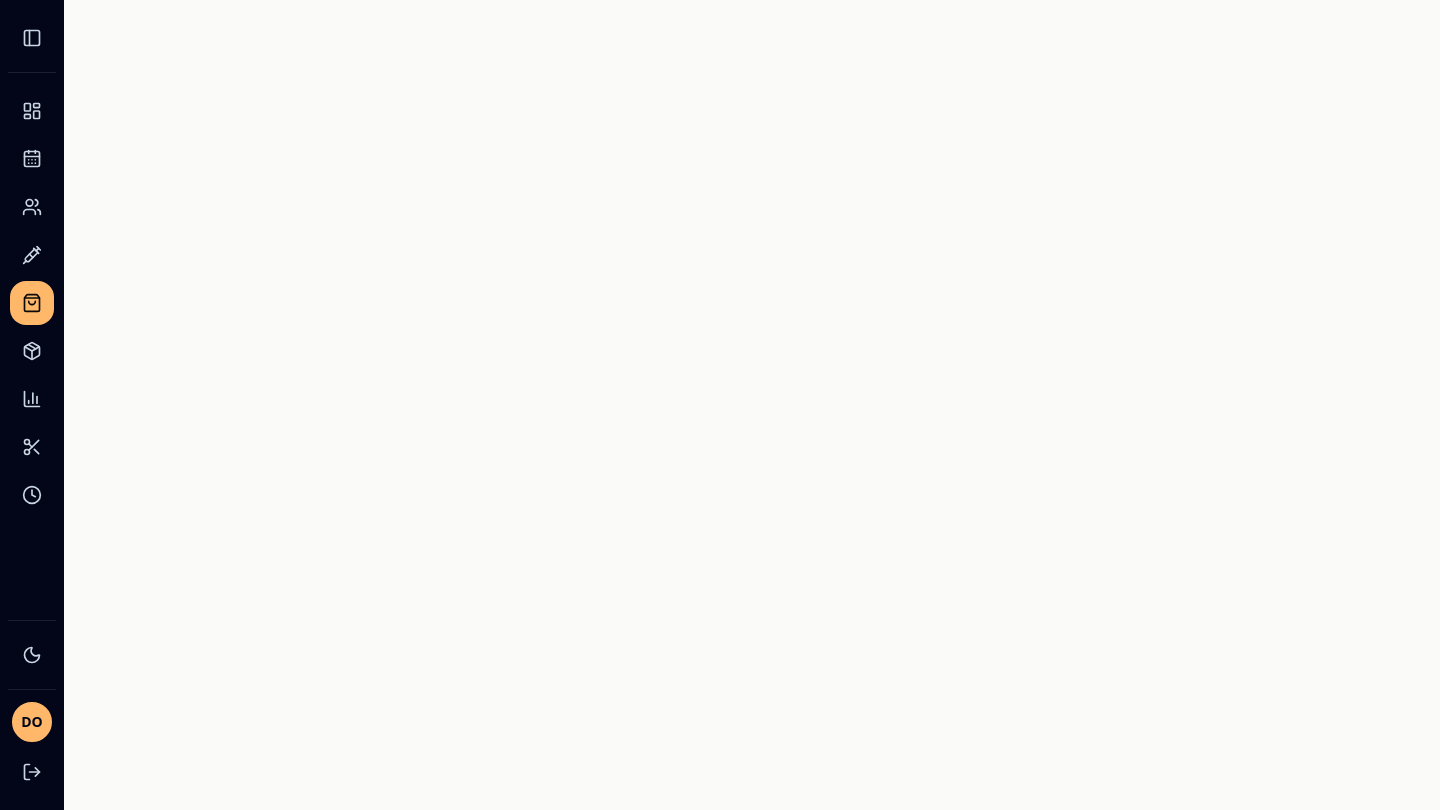
Test: MenuLateral (DES-02, DES-03, PNL-01, DSG-01..DSG-06) › exibe seção Aparelho na barra lateral com botão de alternar tema claro e escuro
This screenshot has width=1440, height=810.
Click the button named "Modo escuro": (32, 655) 10,633 -> 54,677
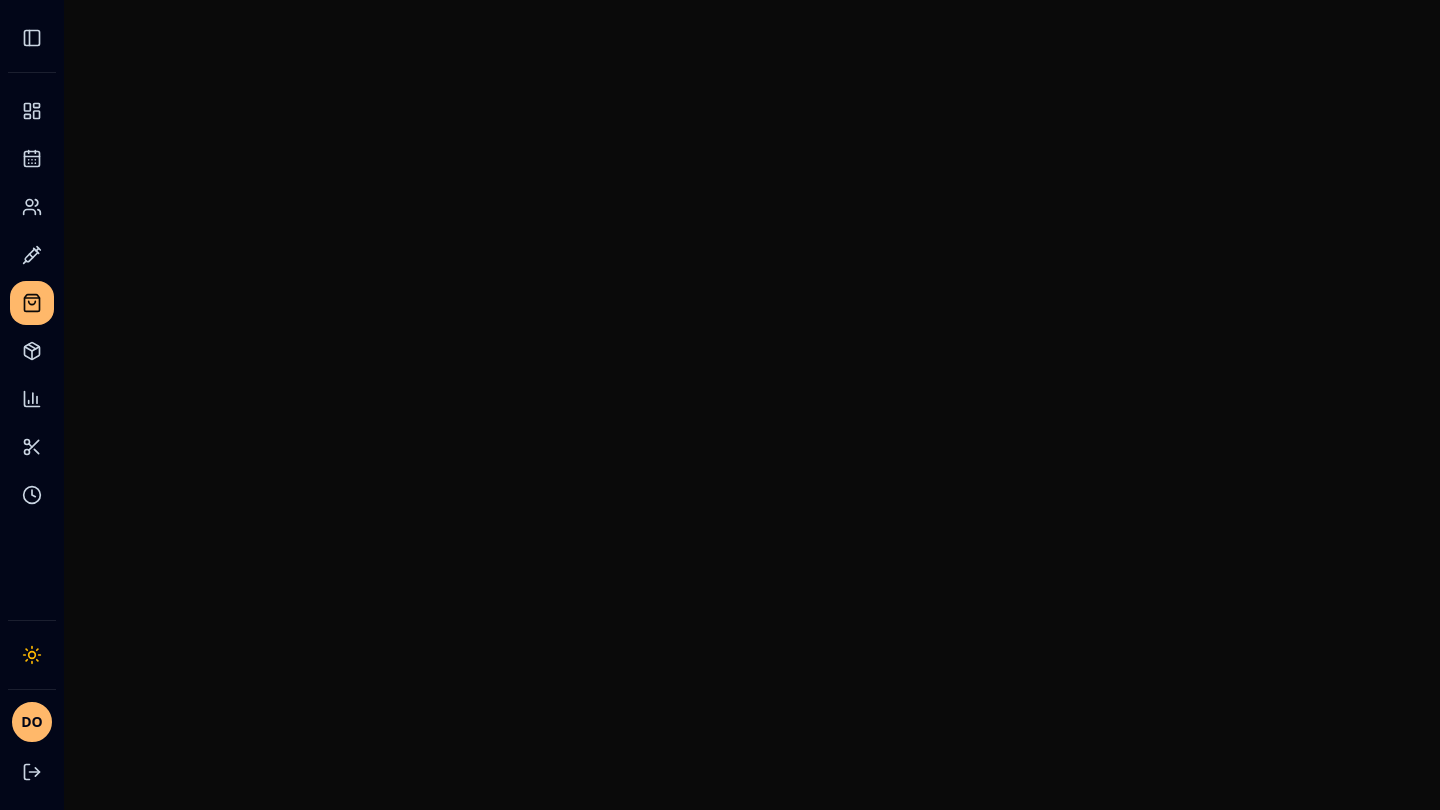
Expected: the button named "Modo claro" is shown, 10,633 -> 54,677
